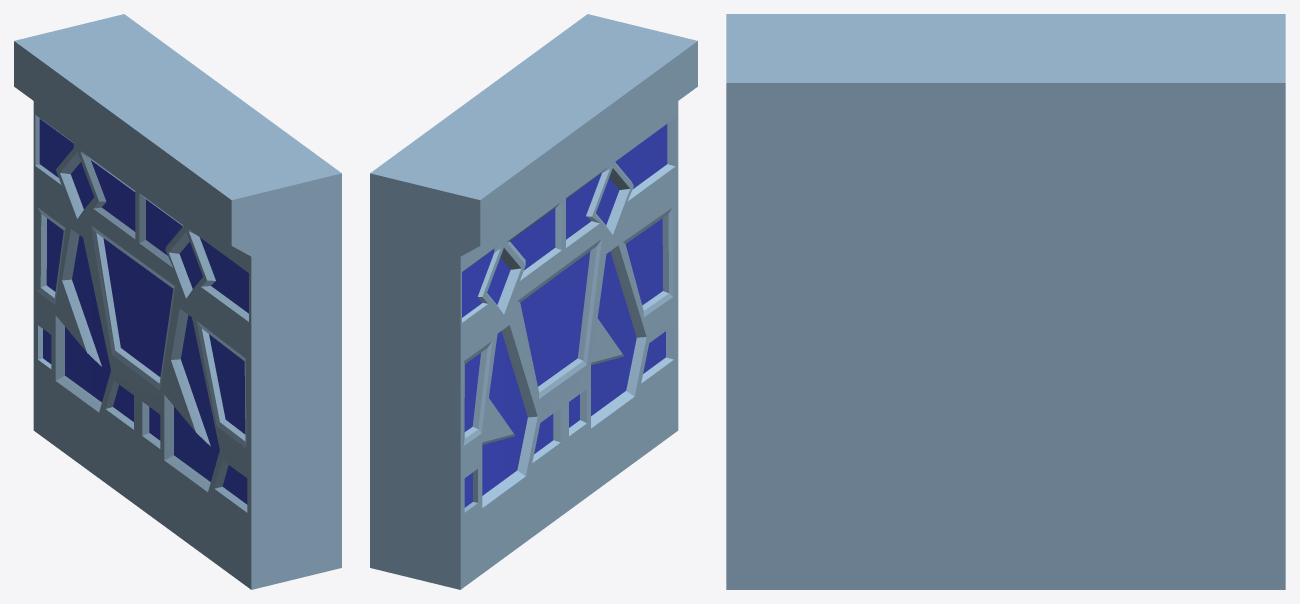
Rendered from EspacioRedSocialParedExteriorNS.gltf.
3 renders of one model, left to right at view 1: azimuth 30°, elevation 25°; view 2: azimuth 150°, elevation 25°; view 3: azimuth 270°, elevation 25°, orthographic. The views are drawn at different scales.
Visible parts, largest first — view 1: Conector; view 2: Conector; view 3: Conector.
Boxes of the visible parts, x1,y1,x2,y2 form: Conector: [14, 14, 341, 589]; Conector: [370, 14, 697, 589]; Conector: [726, 14, 1285, 589].
Bounding box in the file's own units: 0.585 × 2 × 2.
1 material, 1 textured.
